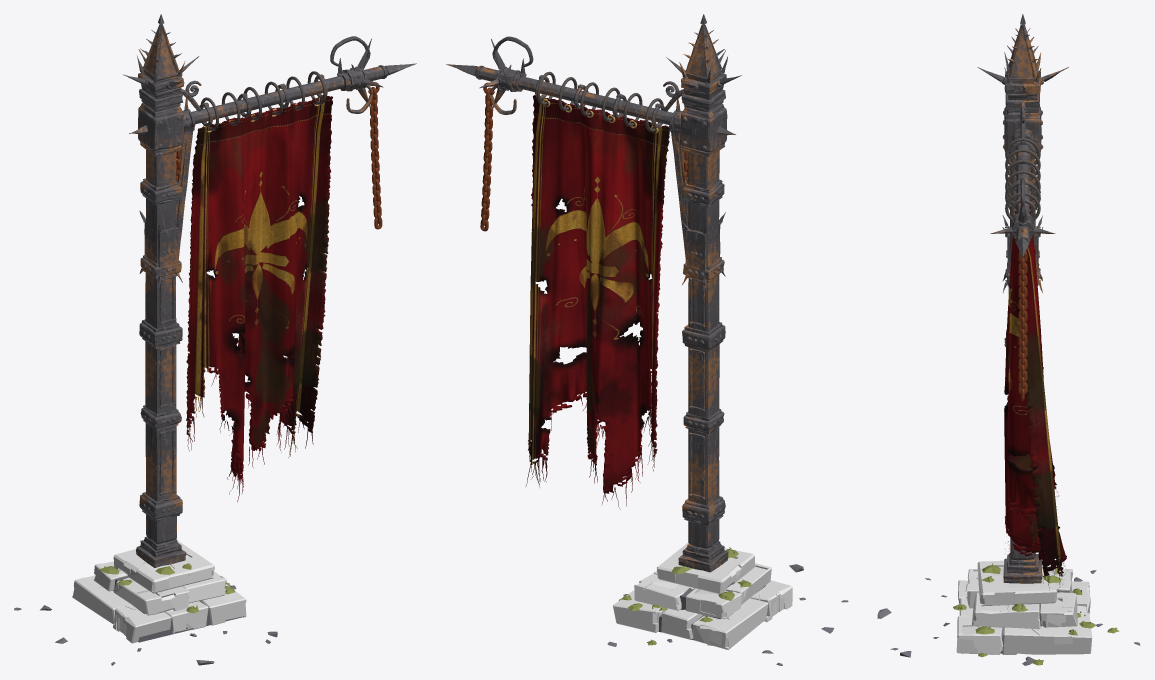
The model's file is SM_Cripta_Estandarte.glb.
3 renders of one model, left to right at view 1: azimuth 30°, elevation 25°; view 2: azimuth 150°, elevation 25°; view 3: azimuth 270°, elevation 25°, orthographic. The views are drawn at different scales.
Parts seen in each view (by area): view 1: SM_Cripta_Estandarte; view 2: SM_Cripta_Estandarte; view 3: SM_Cripta_Estandarte.
Boxes of the visible parts, x1,y1,x2,y2 form: SM_Cripta_Estandarte: (14, 14, 416, 665); SM_Cripta_Estandarte: (446, 14, 848, 665); SM_Cripta_Estandarte: (877, 14, 1140, 665).
Size of the model in its own units: 2.33 by 3.56 by 1.38.
7 materials, 3 textured.
